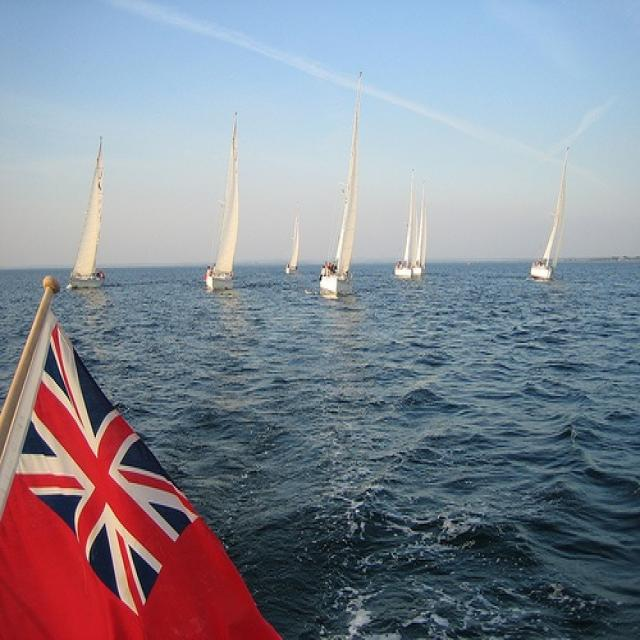boat: (316, 72, 362, 297), (204, 109, 243, 290), (66, 132, 108, 288), (530, 138, 567, 284), (394, 169, 420, 282), (283, 212, 303, 274), (412, 206, 428, 276)
